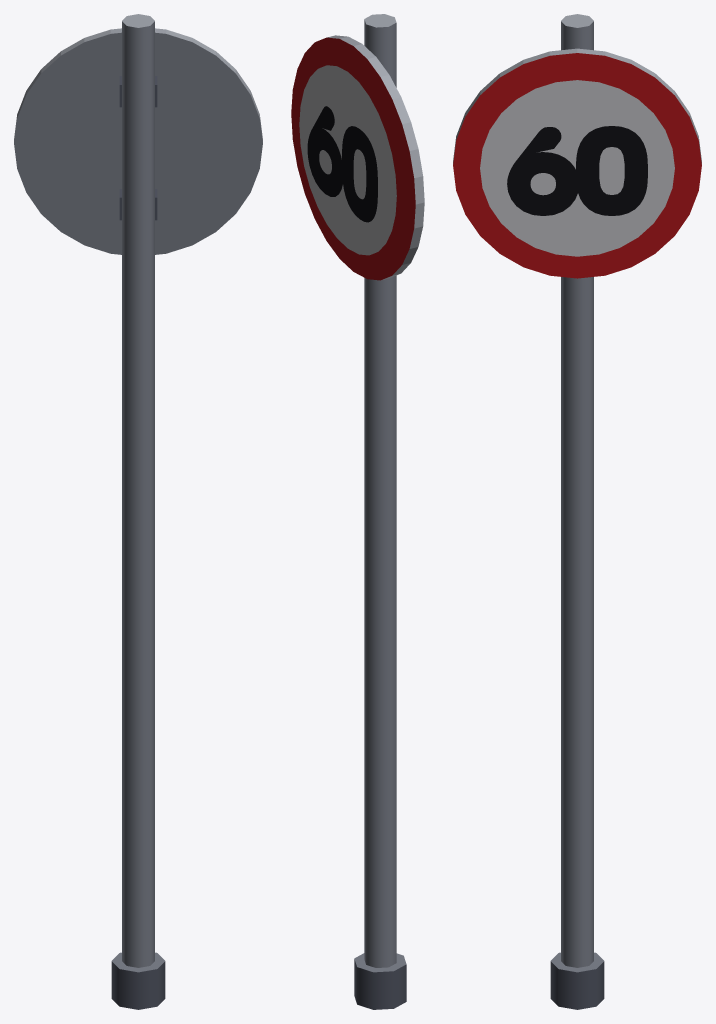
File: sign_speed60.glb
3 views of the same model, side by side, from view 1: azimuth 90°, elevation 25°; view 2: azimuth 210°, elevation 25°; view 3: azimuth 270°, elevation 25° (orthographic).
Visible parts, largest first — view 1: Sign; view 2: Sign; view 3: Sign.
Boxes of the visible parts, bbox=[...] form: Sign: bbox=[14, 14, 262, 1009]; Sign: bbox=[291, 14, 424, 1009]; Sign: bbox=[453, 14, 701, 1009].
Bounding box in the file's own units: 0.17 × 2.6 × 0.6.
